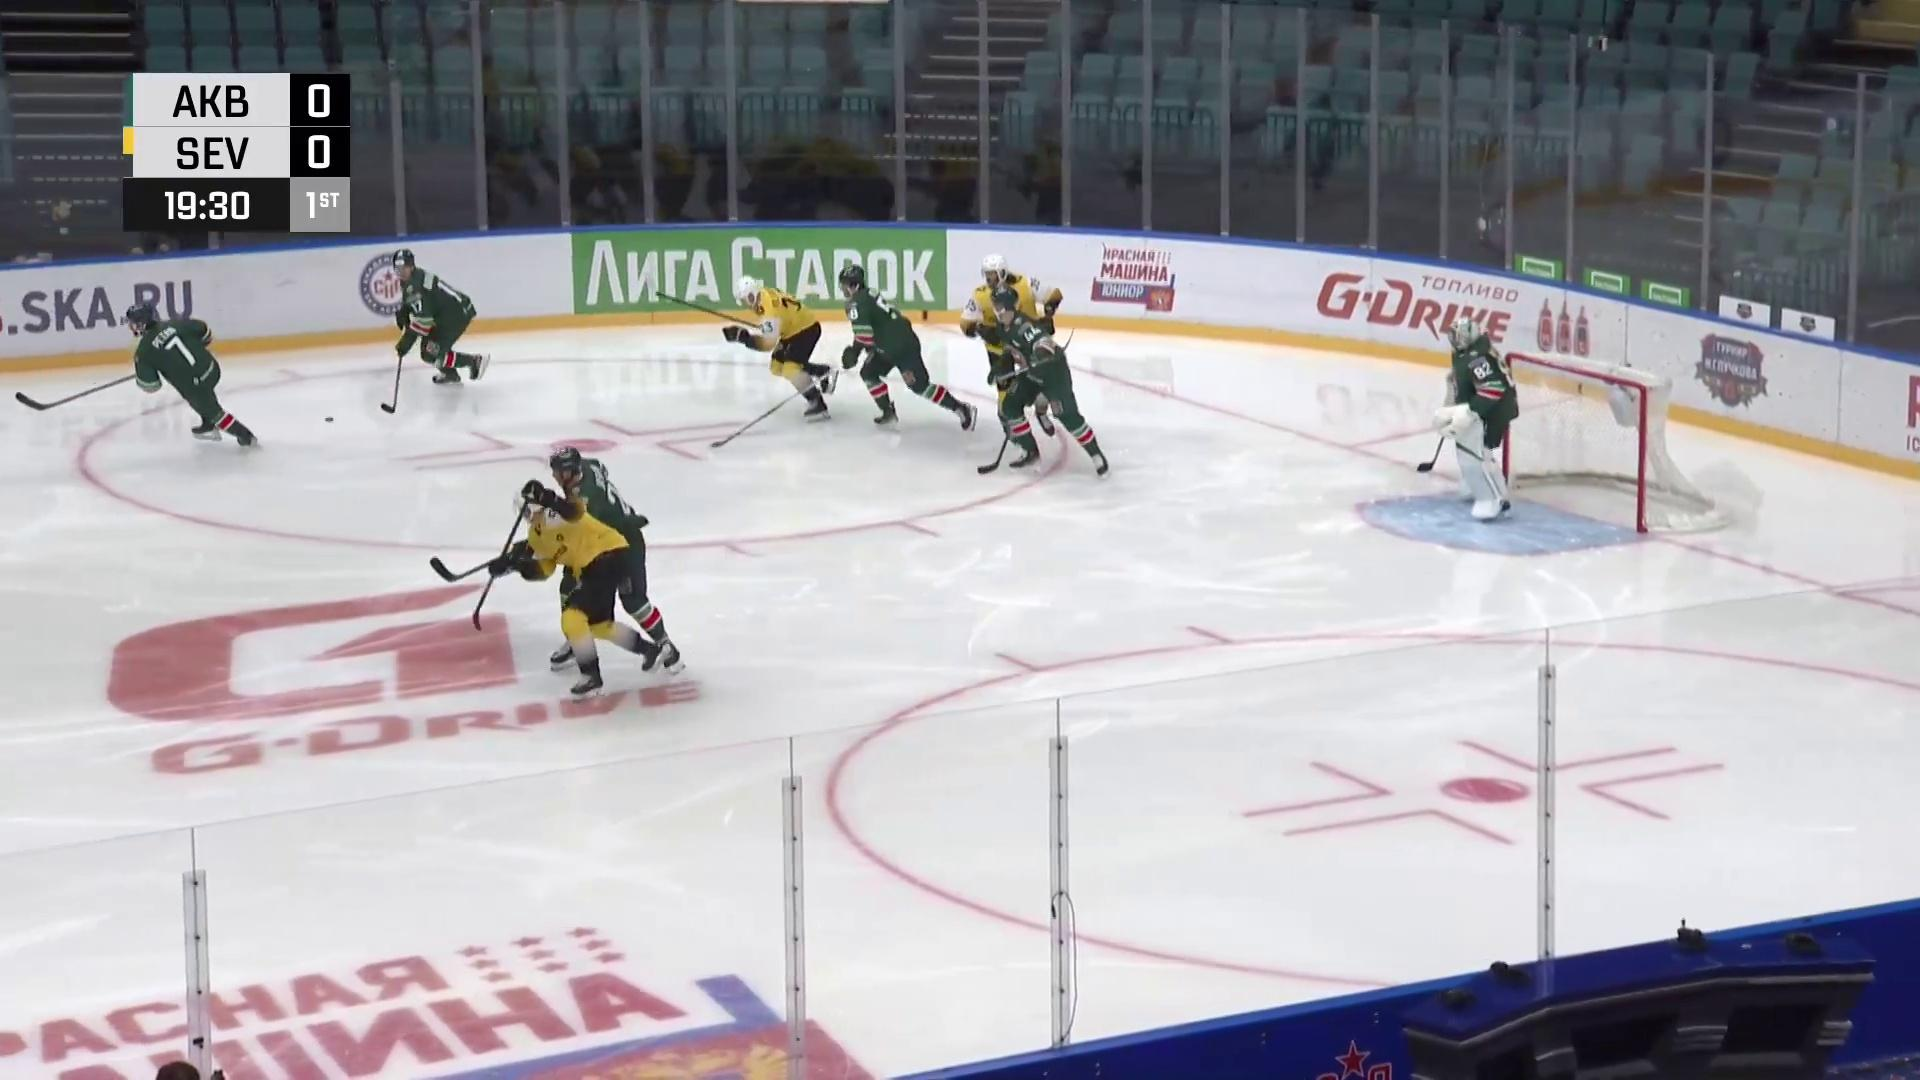ball: (323, 415, 335, 423)
